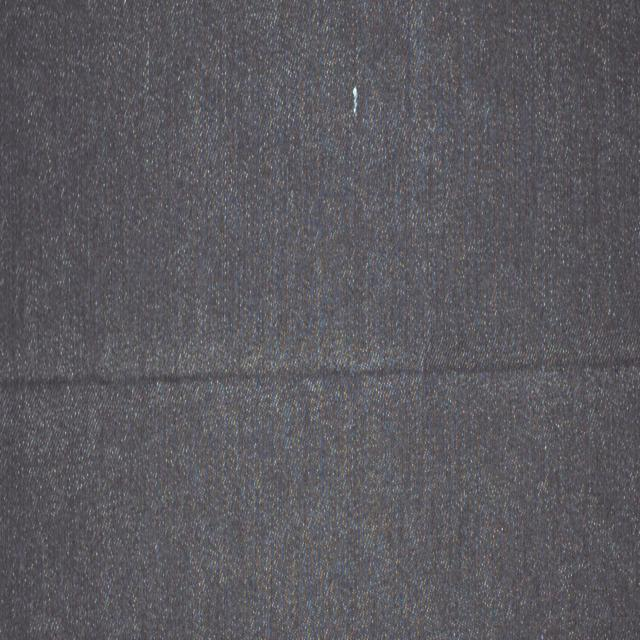Knot: (352, 85, 360, 116)
Line: (0, 357, 640, 390)
